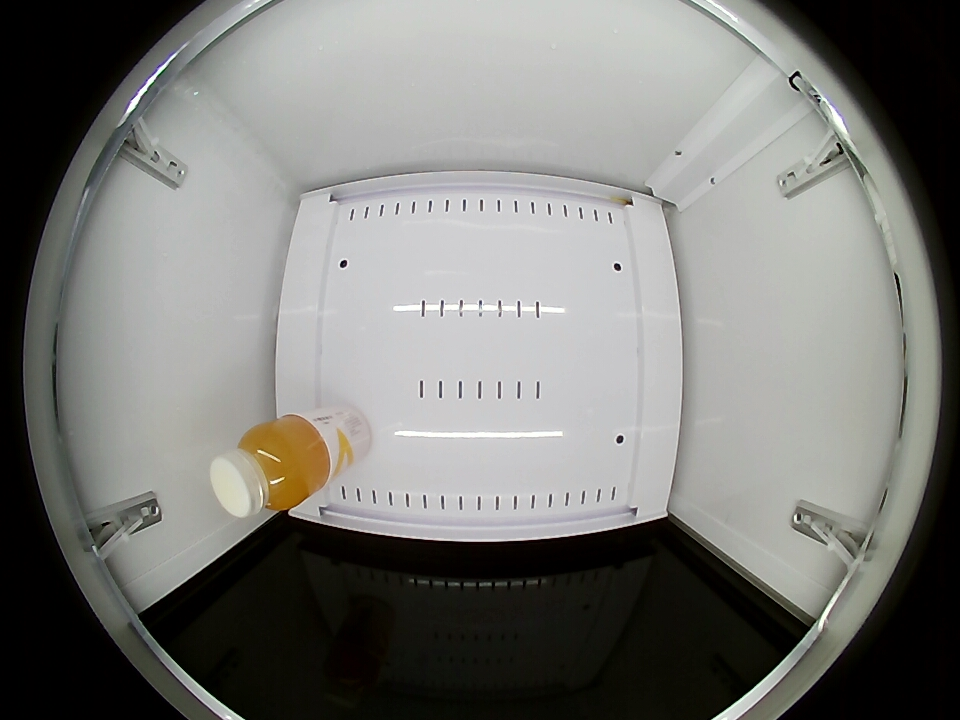weic: (210, 415, 331, 518)
